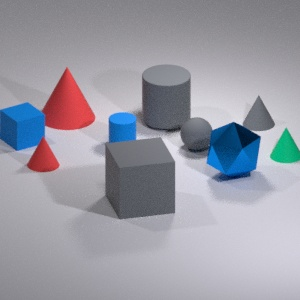lapphuong: (101, 138, 176, 219), (1, 95, 46, 152)
lucgiac: (205, 121, 260, 181)
non: (36, 64, 97, 131), (237, 89, 277, 134), (25, 136, 65, 176), (268, 123, 300, 170)
tron: (177, 113, 214, 153)
tru: (140, 58, 190, 131), (107, 110, 138, 142)
